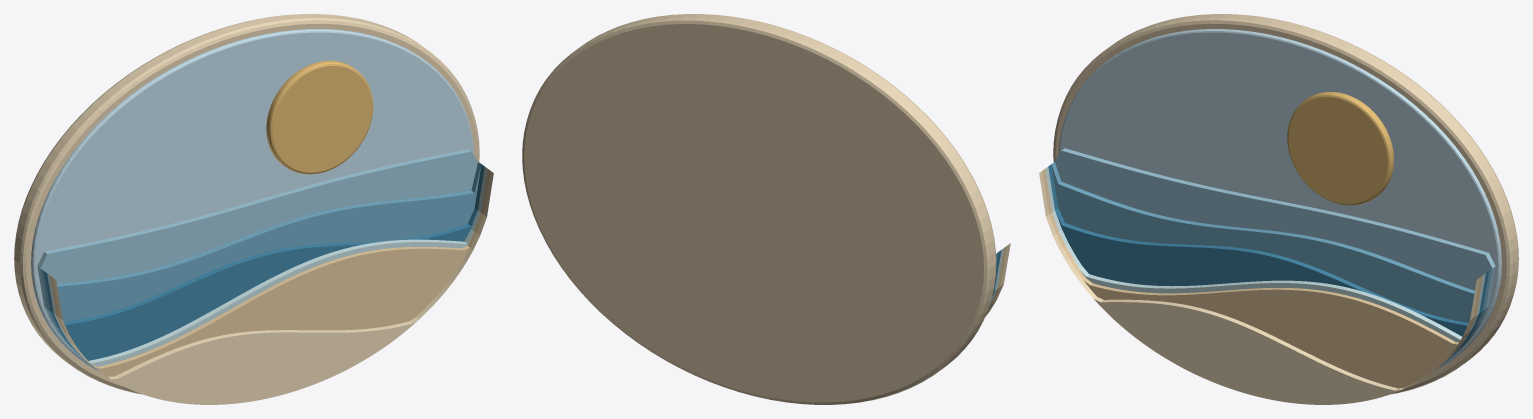
File: inastia-coast.glb
The picture shows the model from 3 angles, left to right: view 1: azimuth 30°, elevation 25°; view 2: azimuth 150°, elevation 25°; view 3: azimuth 330°, elevation 25°; orthographic projection.
Parts seen in each view (by area): view 1: Inset powder blue sky, Distant horizon, Warm beach, Sculpted dune foreground, Open water swell, Oval limestone sculpture, Near water swell, Sun disc, Fine foam coastline; view 2: Oval limestone sculpture; view 3: Inset powder blue sky, Distant horizon, Warm beach, Sculpted dune foreground, Open water swell, Oval limestone sculpture, Near water swell, Sun disc, Fine foam coastline.
Boxes of the visible parts, x1,y1,x2,y2 form: Inset powder blue sky: [31, 29, 473, 371]; Distant horizon: [37, 149, 477, 358]; Warm beach: [50, 168, 490, 376]; Sculpted dune foreground: [53, 171, 493, 404]; Open water swell: [40, 162, 481, 361]; Oval limestone sculpture: [14, 14, 479, 394]; Near water swell: [44, 164, 484, 366]; Sun disc: [266, 60, 373, 174]; Fine foam coastline: [47, 166, 487, 368]; Oval limestone sculpture: [522, 14, 996, 404]; Inset powder blue sky: [1059, 29, 1501, 371]; Distant horizon: [1055, 148, 1495, 358]; Warm beach: [1042, 168, 1482, 388]; Sculpted dune foreground: [1039, 171, 1479, 404]; Open water swell: [1051, 162, 1492, 361]; Oval limestone sculpture: [1053, 14, 1518, 394]; Near water swell: [1048, 164, 1488, 366]; Sun disc: [1287, 92, 1393, 205]; Fine foam coastline: [1045, 166, 1485, 368].
Size of the model in its own units: 9 by 6.8 by 1.12.
